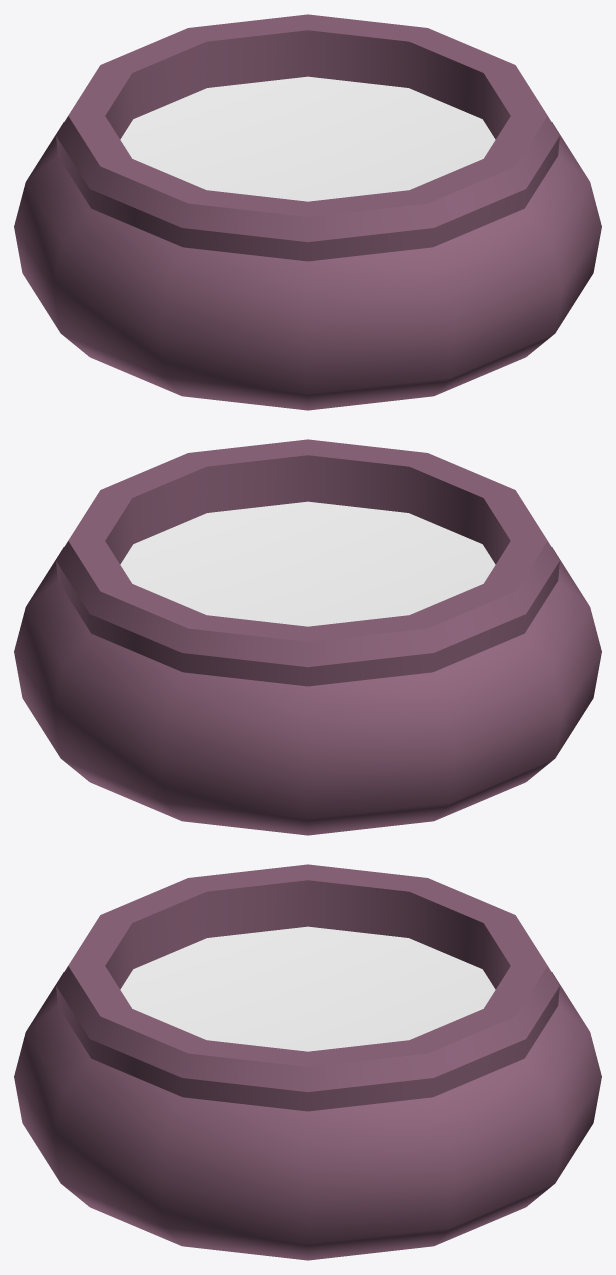
File: Pot_Purple.fbx
The picture shows the model from 3 angles, top to bottom: view 1: azimuth 30°, elevation 25°; view 2: azimuth 150°, elevation 25°; view 3: azimuth 270°, elevation 25°; orthographic projection.
Parts seen in each view (by area): view 1: Pot_Purple; view 2: Pot_Purple; view 3: Pot_Purple.
Boxes of the visible parts, x1,y1,x2,y2 form: Pot_Purple: [14, 14, 601, 410]; Pot_Purple: [14, 439, 601, 835]; Pot_Purple: [14, 864, 601, 1260].
Bounding box in the file's own units: 83.91 × 29.66 × 83.91.
